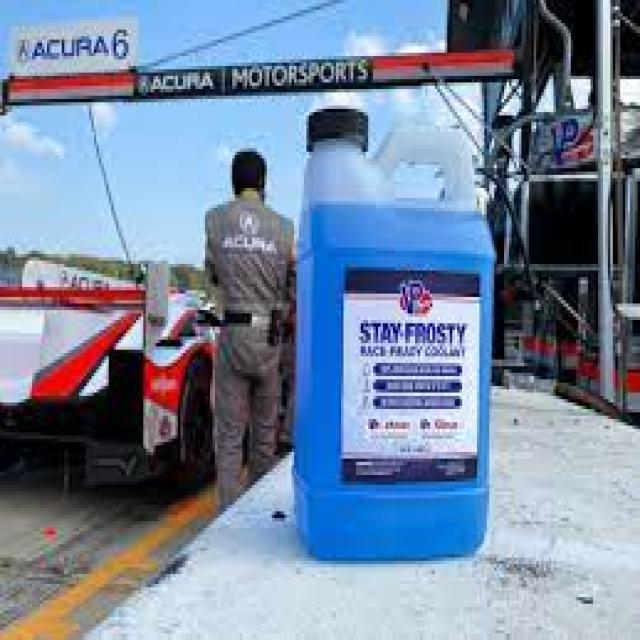coolant: (301, 105, 492, 567)
